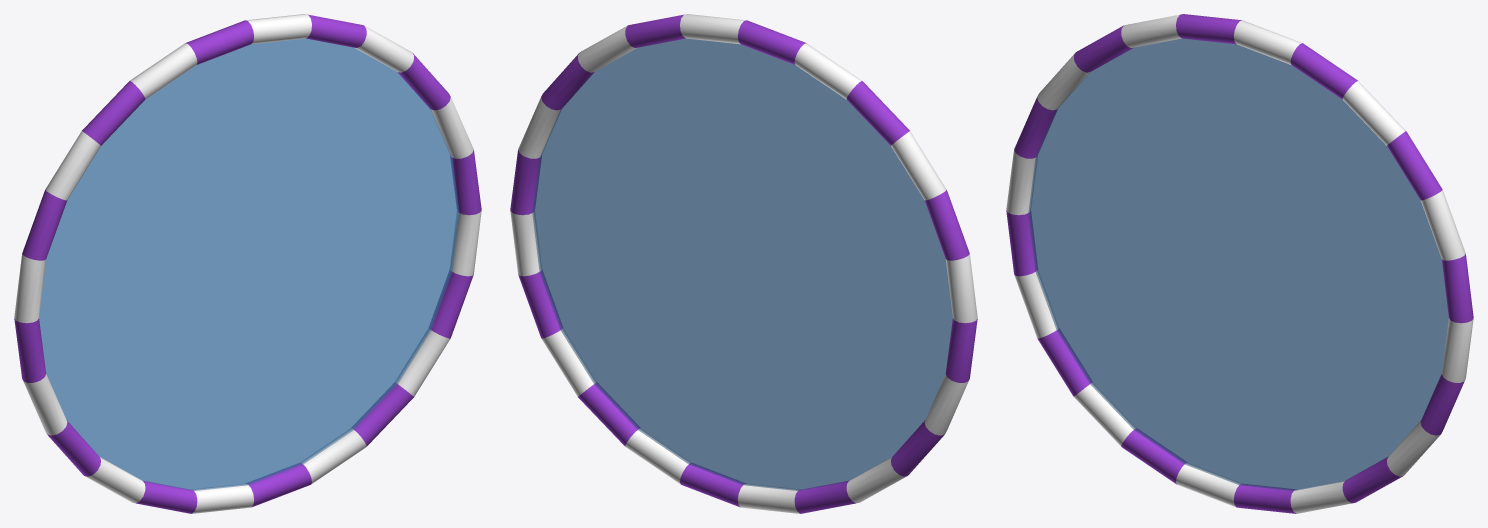
The model's file is Camli_Halka.FBX.
The picture shows the model from 3 angles, left to right: view 1: azimuth 30°, elevation 25°; view 2: azimuth 150°, elevation 25°; view 3: azimuth 330°, elevation 25°; orthographic projection.
Parts seen in each view (by area): view 1: Torus002, Torus001; view 2: Torus002, Torus001; view 3: Torus002, Torus001.
Boxes of the visible parts, bbox=[...] form: Torus002: bbox=[39, 38, 459, 490]; Torus001: bbox=[14, 14, 481, 513]; Torus002: bbox=[532, 38, 952, 490]; Torus001: bbox=[510, 14, 977, 513]; Torus002: bbox=[1028, 38, 1448, 490]; Torus001: bbox=[1006, 14, 1473, 513].
Size of the model in its own units: 605 by 605 by 27.99.
